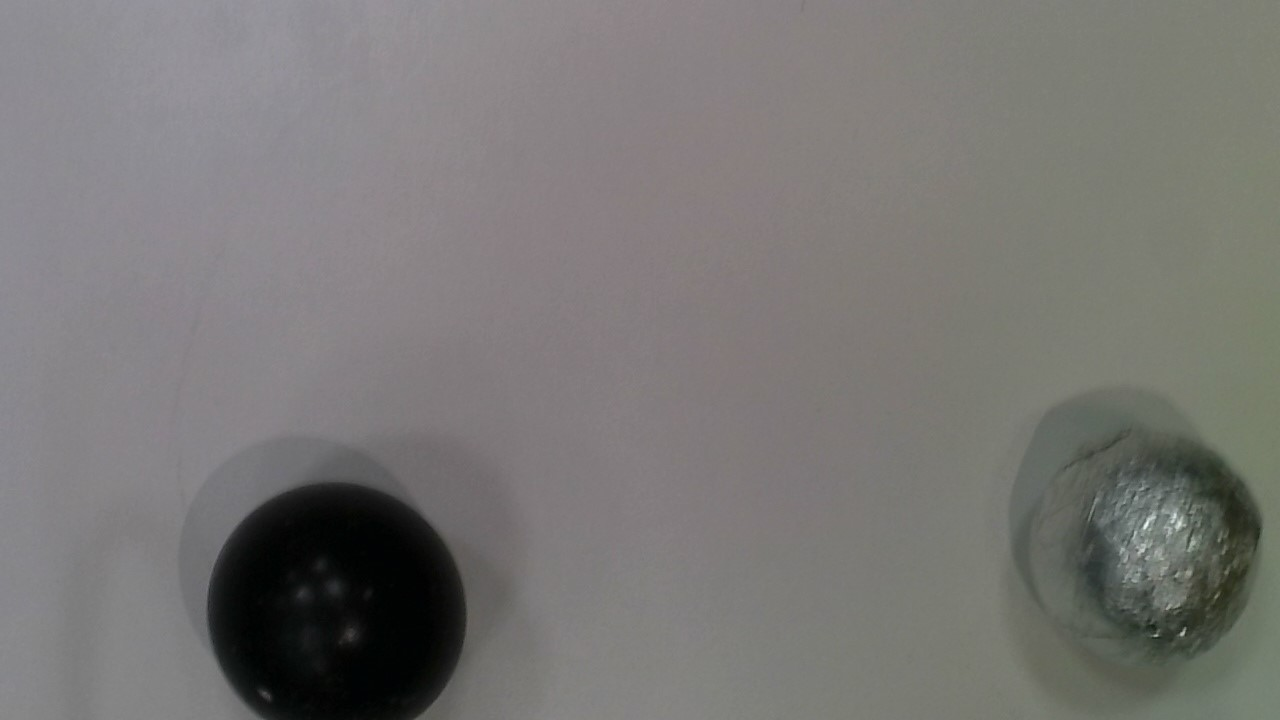black_ball: (200, 480, 473, 720)
silver_ball: (1008, 419, 1258, 682)
